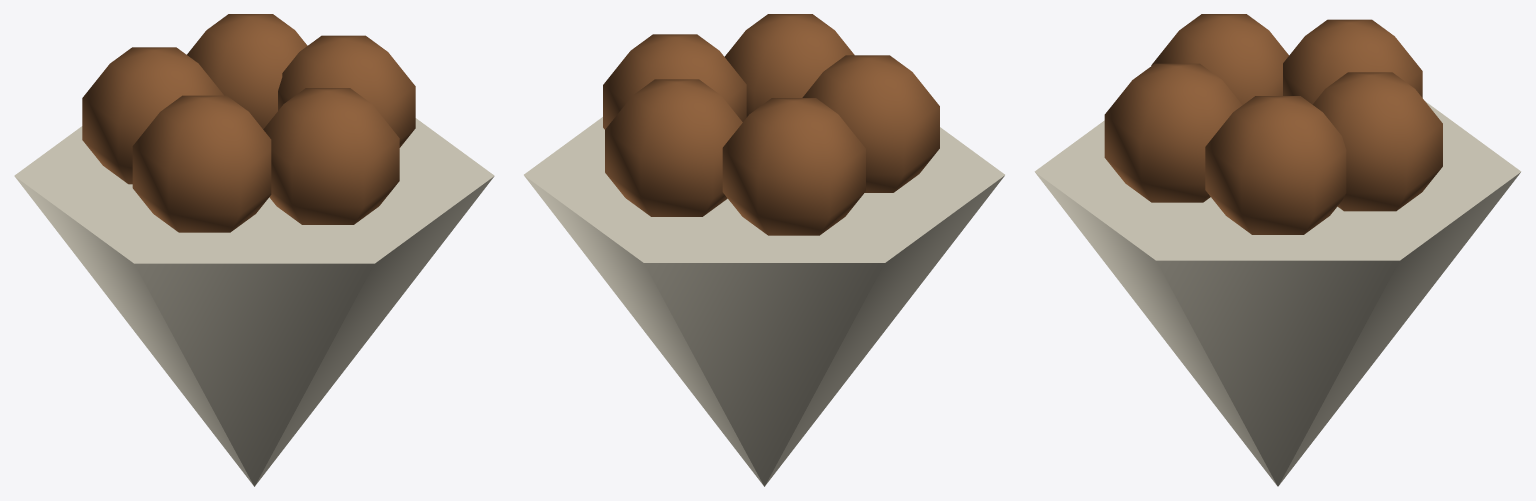
Rendered from good-nut.glb.
3 views of the same model, side by side, from view 1: azimuth 30°, elevation 25°; view 2: azimuth 150°, elevation 25°; view 3: azimuth 270°, elevation 25° (orthographic).
Visible parts, largest first — view 1: #d8d2c0, #8a5a34_noshadow; view 2: #d8d2c0, #8a5a34_noshadow; view 3: #d8d2c0, #8a5a34_noshadow.
Boxes of the visible parts, bbox=[...] form: #d8d2c0: bbox=[14, 118, 494, 486]; #8a5a34_noshadow: bbox=[82, 14, 415, 232]; #d8d2c0: bbox=[524, 117, 1004, 486]; #8a5a34_noshadow: bbox=[603, 14, 939, 235]; #d8d2c0: bbox=[1034, 101, 1521, 486]; #8a5a34_noshadow: bbox=[1104, 14, 1442, 234].
Size of the model in its own units: 0.1212 by 0.137 by 0.14.
